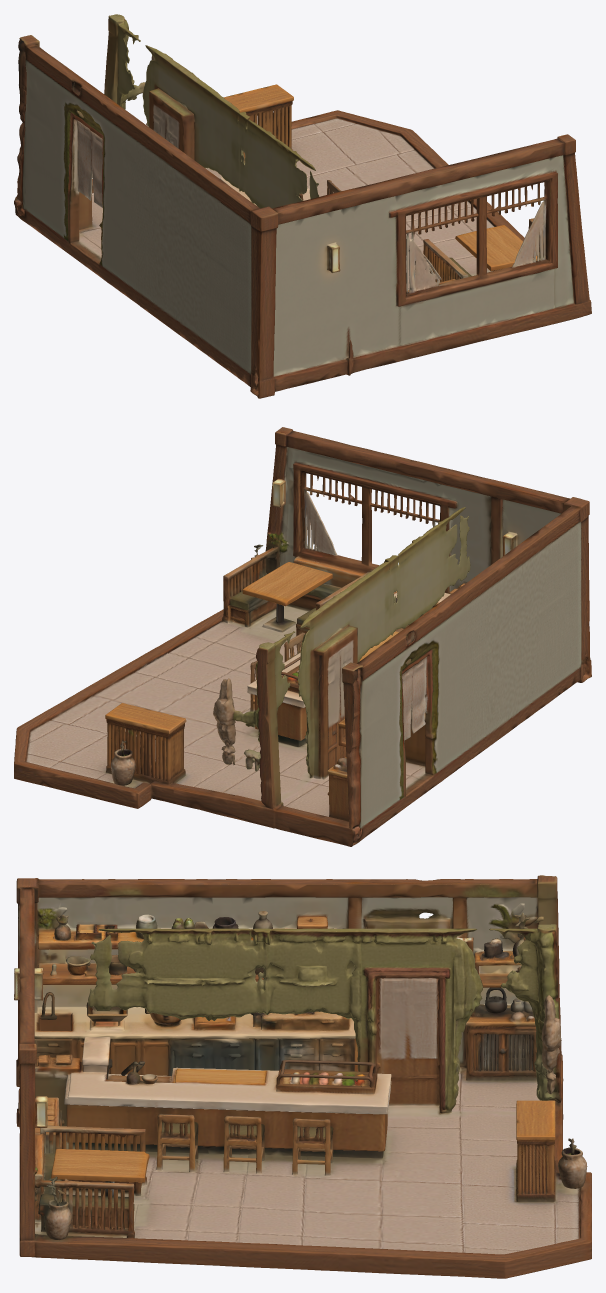
File: sushi-room-v4.glb
The picture shows the model from 3 angles, top to bottom: view 1: azimuth 30°, elevation 25°; view 2: azimuth 150°, elevation 25°; view 3: azimuth 270°, elevation 25°; orthographic projection. The views are drawn at different scales.
Visible parts, largest first — view 1: tripo_node_ce0afdce-1b63-4ffe-9f2c-d26e903724b8; view 2: tripo_node_ce0afdce-1b63-4ffe-9f2c-d26e903724b8; view 3: tripo_node_ce0afdce-1b63-4ffe-9f2c-d26e903724b8.
Boxes of the visible parts, bbox=[...] form: tripo_node_ce0afdce-1b63-4ffe-9f2c-d26e903724b8: bbox=[14, 14, 591, 398]; tripo_node_ce0afdce-1b63-4ffe-9f2c-d26e903724b8: bbox=[14, 427, 591, 846]; tripo_node_ce0afdce-1b63-4ffe-9f2c-d26e903724b8: bbox=[14, 875, 591, 1278].
Bounding box in the file's own units: 2.55 × 1.2 × 3.07.
Materials: 1 (1 with a texture image).
